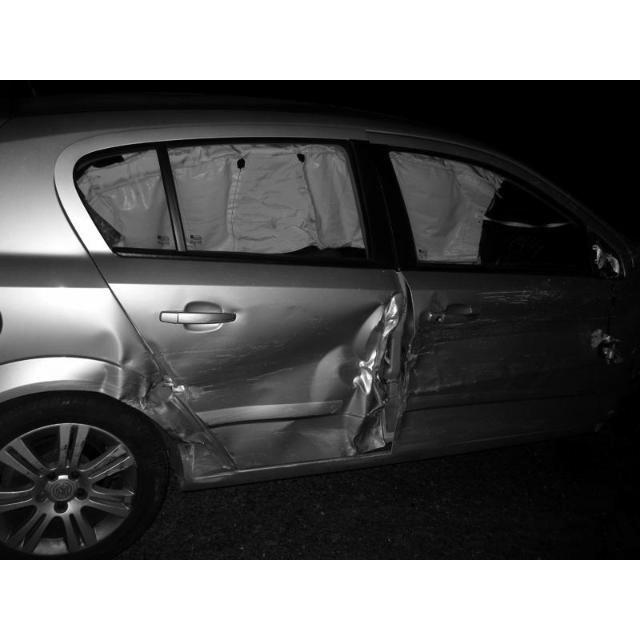doorouter-dent: (104, 261, 393, 465), (402, 264, 602, 451)
quaterpanel-dent: (1, 342, 210, 494)
